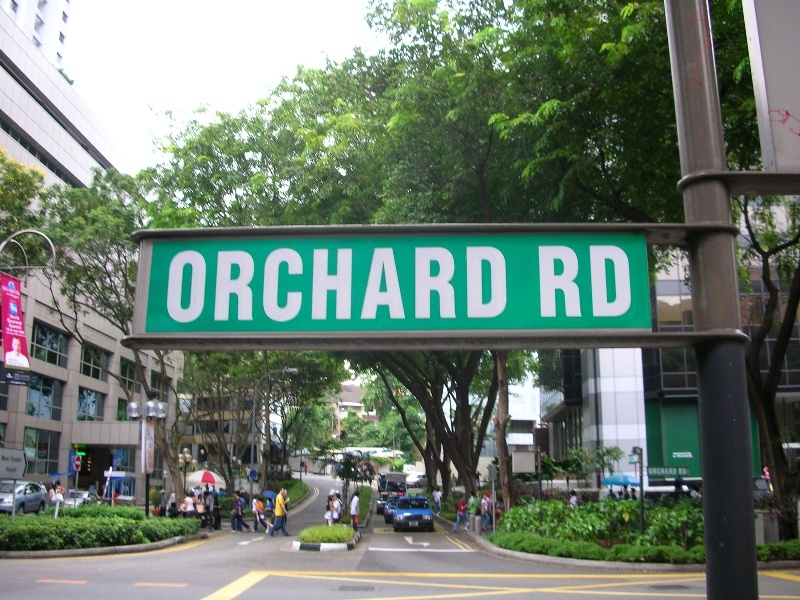text: (177, 246, 192, 325), (193, 246, 208, 325), (209, 246, 224, 325), (225, 246, 240, 325), (241, 246, 256, 325), (257, 246, 272, 325), (273, 246, 288, 325), (289, 246, 304, 325), (305, 246, 320, 325), (321, 246, 336, 325), (337, 246, 352, 325), (353, 246, 368, 325), (369, 246, 384, 325), (385, 246, 400, 325), (401, 246, 416, 325), (417, 246, 432, 325), (433, 246, 448, 325), (449, 246, 464, 325), (465, 246, 480, 325), (481, 246, 496, 325), (545, 244, 560, 318), (561, 244, 576, 318), (577, 244, 592, 318), (593, 244, 608, 318), (609, 244, 624, 318), (497, 246, 510, 325), (168, 246, 176, 325), (625, 244, 633, 318), (538, 244, 544, 318), (657, 467, 672, 476), (2, 454, 16, 463), (673, 451, 688, 458), (785, 442, 798, 450), (6, 327, 16, 336), (679, 467, 688, 476), (7, 465, 16, 474), (17, 327, 26, 336), (7, 318, 16, 327), (17, 380, 28, 386), (8, 322, 16, 330), (649, 467, 656, 476), (17, 318, 24, 327), (9, 313, 16, 321), (17, 455, 23, 464), (673, 467, 678, 476), (11, 455, 16, 464), (17, 322, 22, 330), (10, 380, 16, 386), (689, 451, 694, 458), (17, 313, 21, 321), (781, 442, 784, 450), (17, 465, 19, 474), (671, 451, 672, 458)
